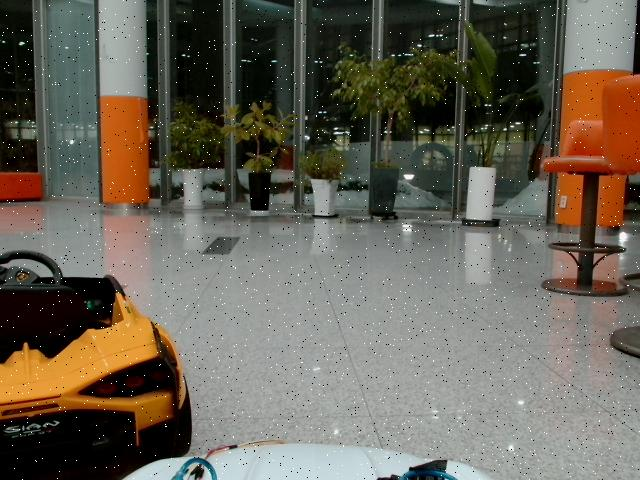car: (1, 250, 192, 476)
